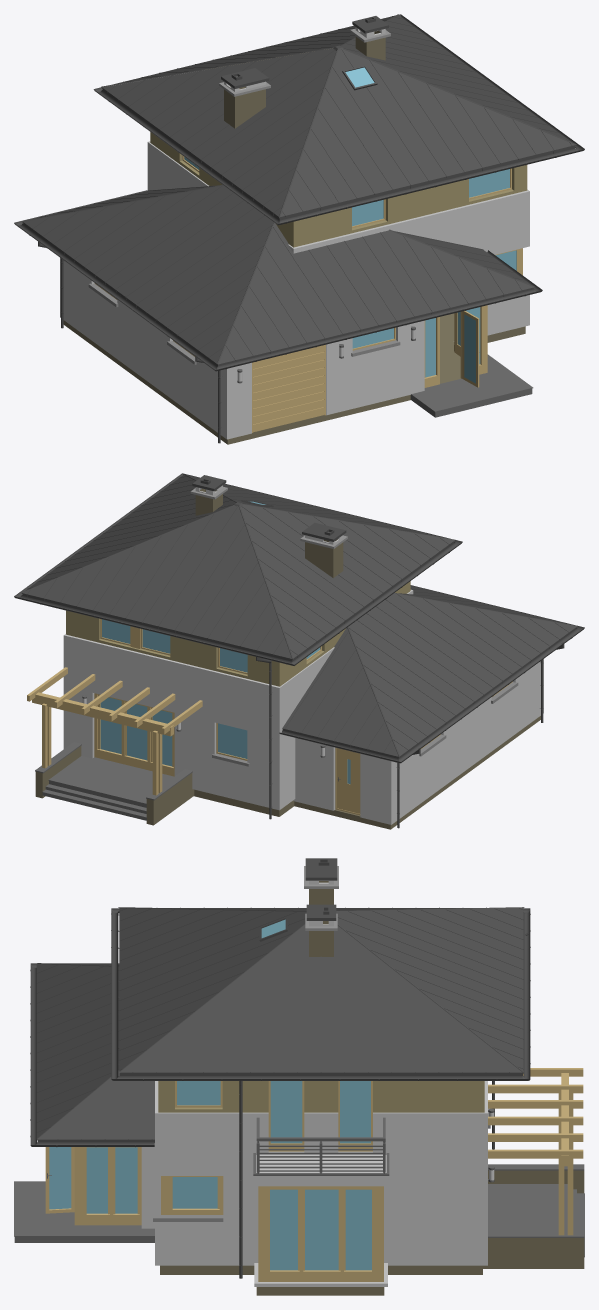
The model's file is HOUSE.glb.
3 renders of one model, top to bottom at view 1: azimuth 30°, elevation 25°; view 2: azimuth 150°, elevation 25°; view 3: azimuth 270°, elevation 25°, orthographic. The views are drawn at different scales.
Parts seen in each view (by area): view 1: Bambo_House; view 2: Bambo_House; view 3: Bambo_House.
Boxes of the visible parts, left/top/right/bottom form: Bambo_House: left=14, top=14, right=584, bottom=444; Bambo_House: left=14, top=473, right=584, bottom=829; Bambo_House: left=14, top=858, right=584, bottom=1295.
Bounding box in the file's own units: 13.64 × 9 × 14.54.
